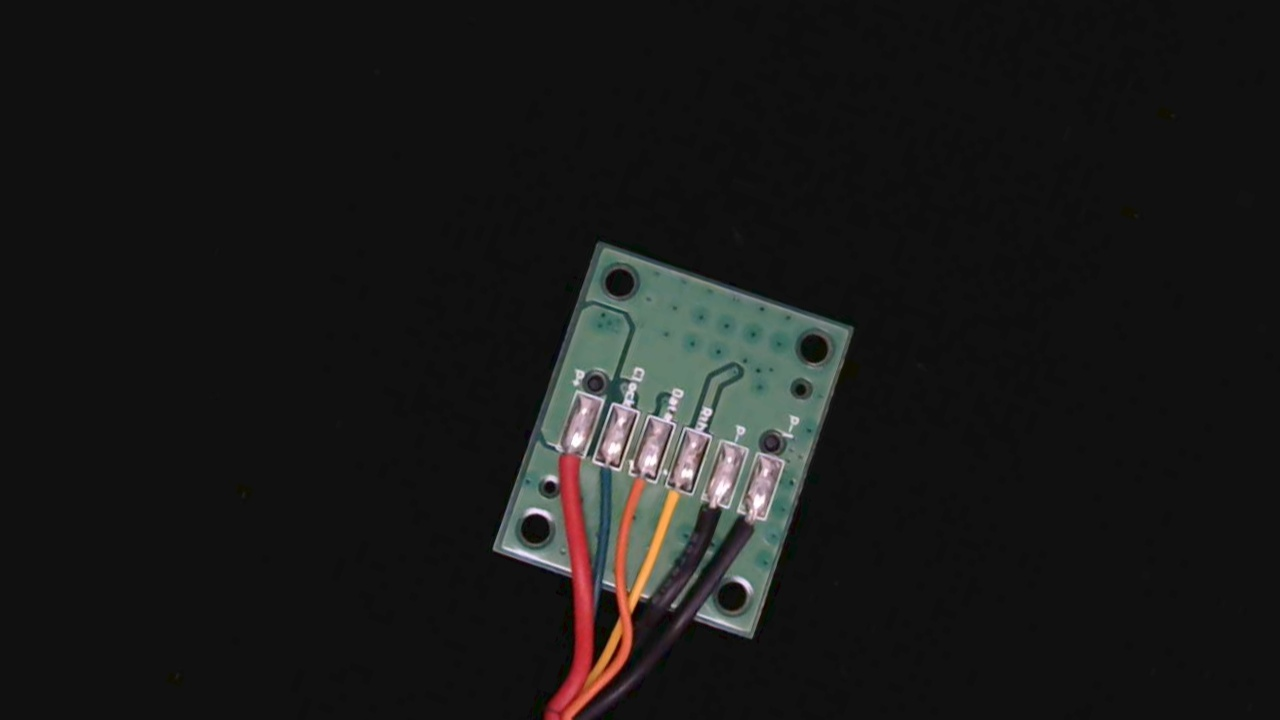Black: (678, 478, 735, 558)
Black1: (722, 493, 776, 567)
Green: (577, 445, 627, 504)
Orange: (606, 456, 661, 534)
Red: (536, 428, 592, 505)
Yellow: (640, 467, 698, 549)
